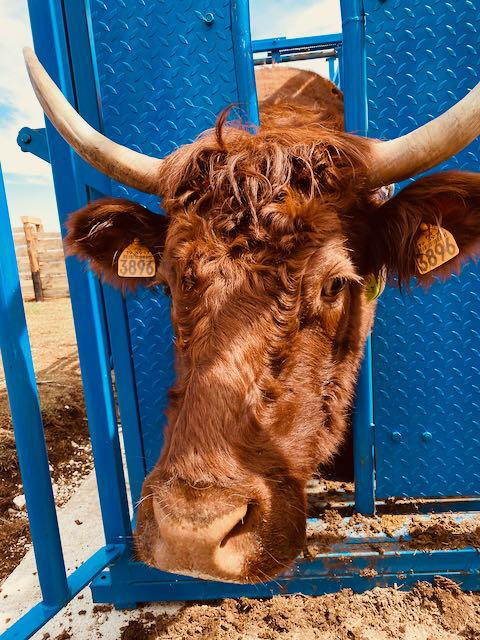muzzles: (118, 478, 308, 588)
